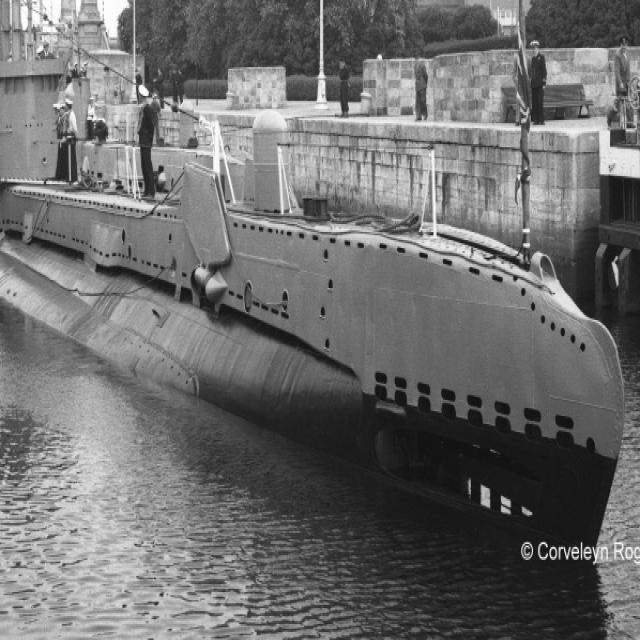submarine: (1, 1, 620, 540)
